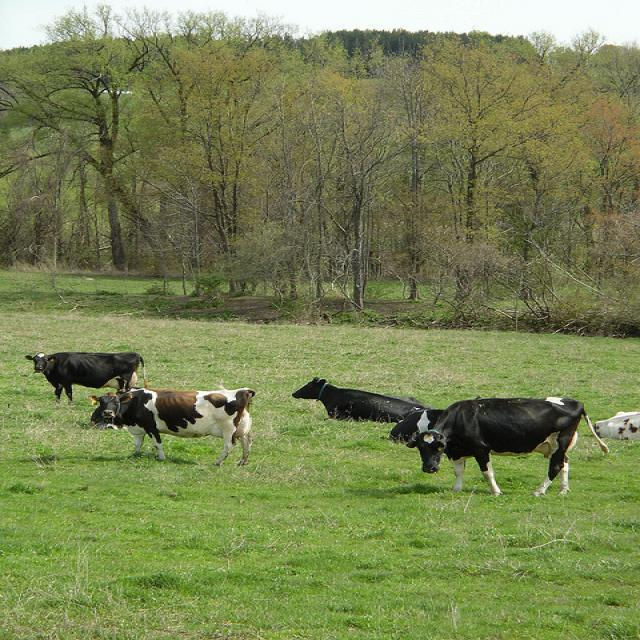cow: (404, 395, 607, 497), (87, 387, 256, 464), (21, 349, 147, 401), (291, 376, 427, 422), (387, 409, 443, 439), (592, 411, 636, 438)
